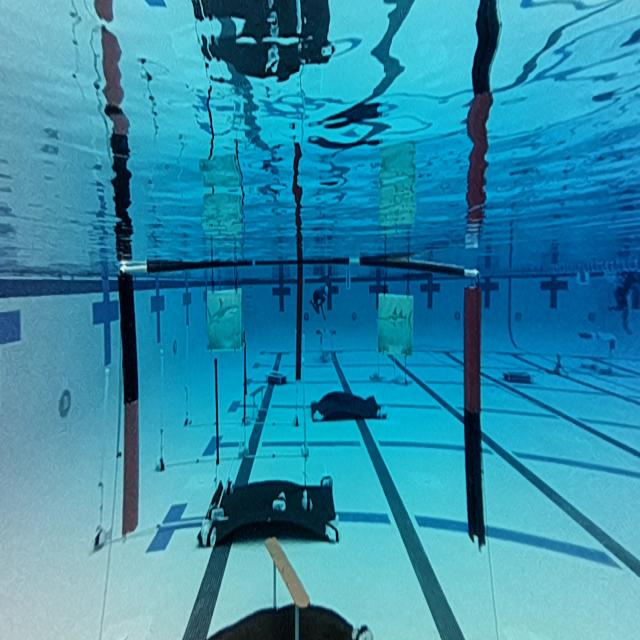pointed_nose: (378, 292, 416, 356)
round_nose: (204, 284, 243, 356)
